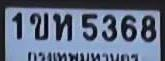1: (11, 10, 21, 38)
3: (101, 12, 116, 40)
5: (81, 13, 96, 40)
6: (120, 14, 136, 41)
8: (140, 14, 155, 41)
A02: (29, 12, 47, 39)
A41: (53, 12, 71, 40)
